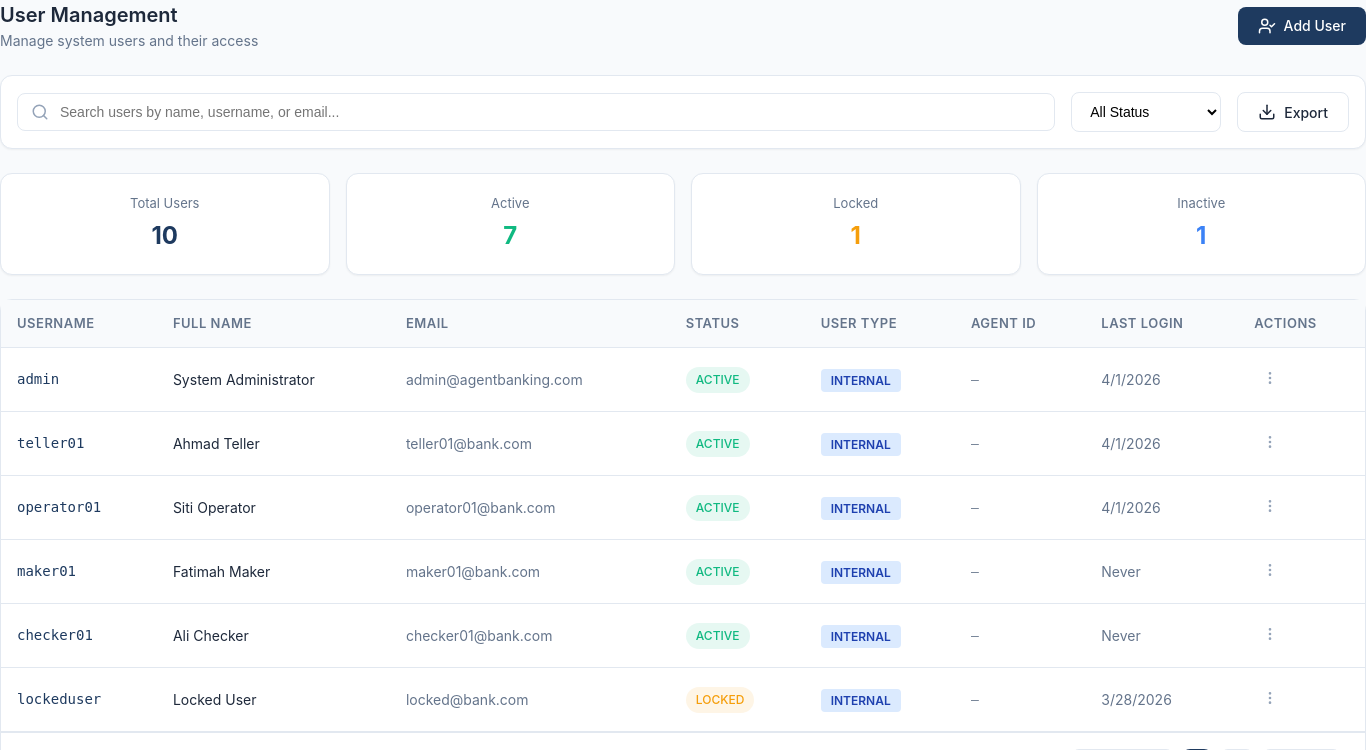
Test case: UserManagement › should search users by name
The image size is (1366, 750).
Type "Admin" into the field with test id "search-input".
click(536, 112); type("Admin")  # box [17,93,1055,131]
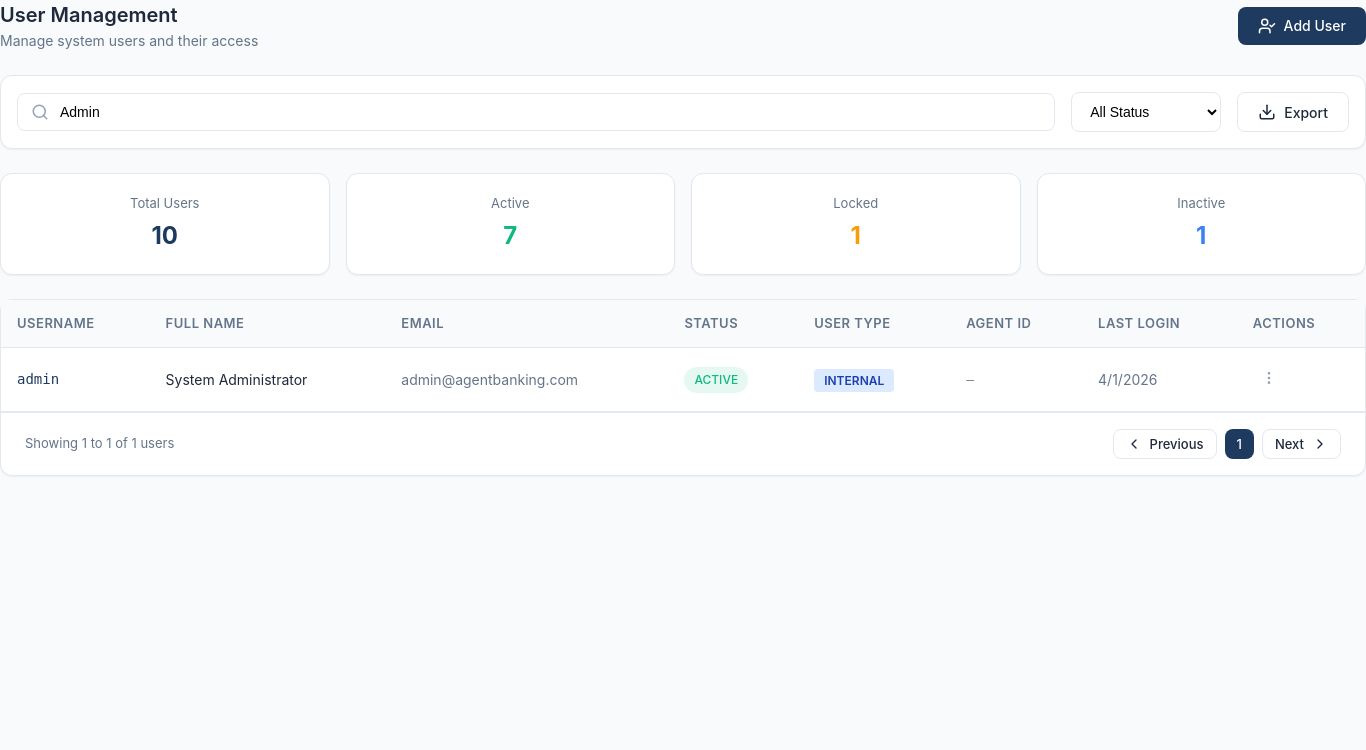
expect the text "admin" is shown: met, box [1,348,150,412]
expect the text "teller01" is gone: met
